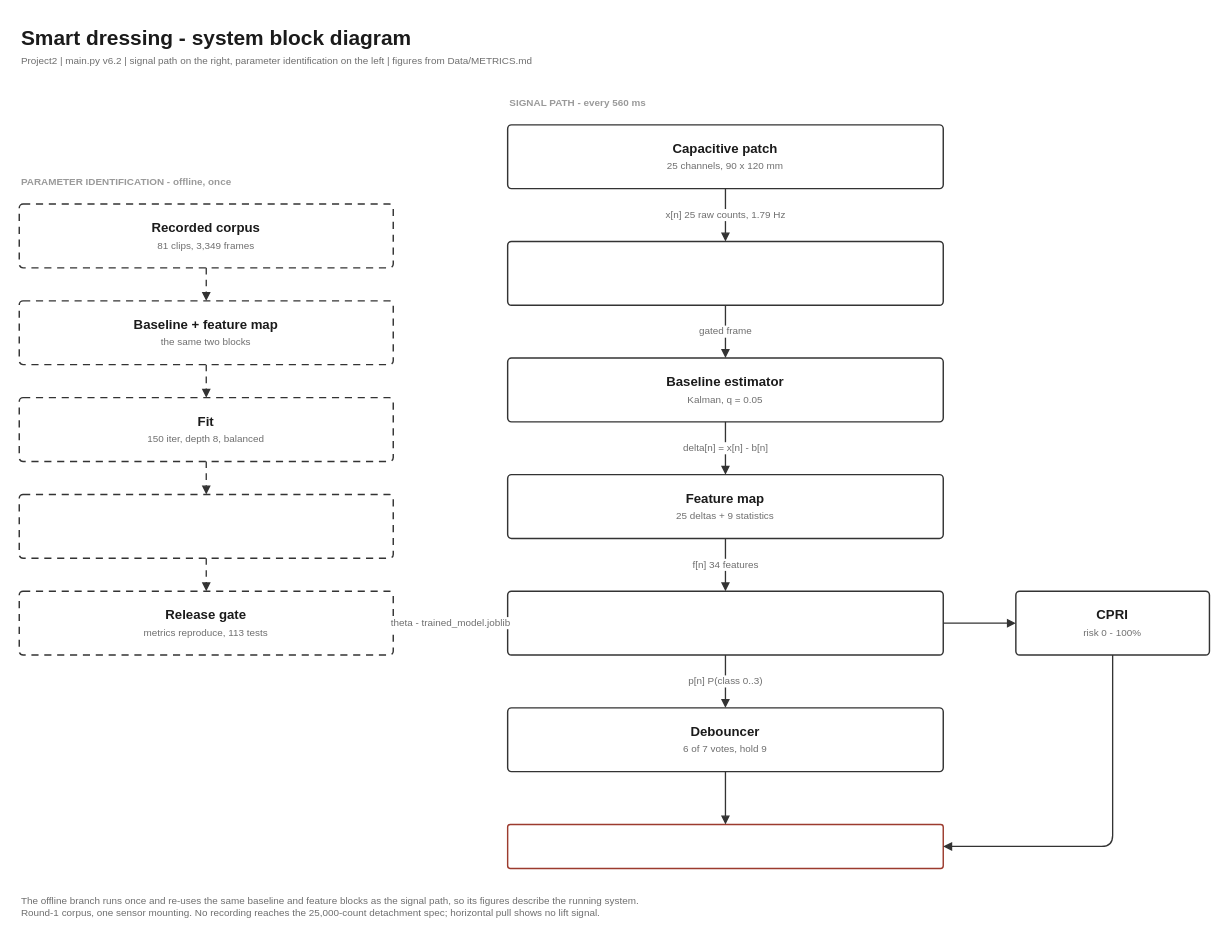
Image size: 1230x950. Some labels were removed from this diagram. The centre of each missing label's shape, as x and y in pixels:
"Classifier HistGradientBoosting" goes at (724,622).
"Frame guard dropout holds level, warm-up 5" goes at (724,272).
"severity level 0 - 3 + risk %" goes at (724,846).
"Validation LOFO 97.5%, episode 100%" goes at (205,525).
